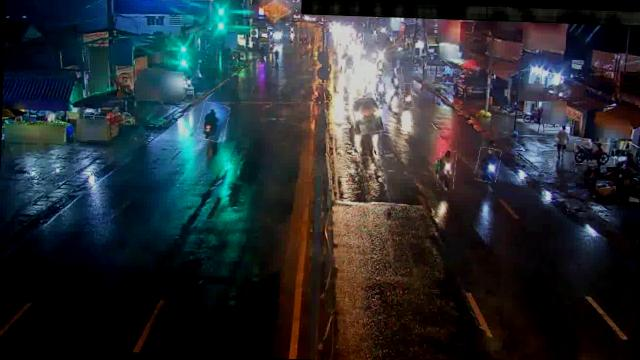Bike: (198, 102, 228, 142), (574, 142, 616, 166), (475, 148, 500, 182), (438, 150, 456, 192), (387, 68, 404, 94), (312, 82, 332, 102), (401, 84, 414, 108), (375, 76, 388, 98), (388, 90, 400, 112)
Car: (349, 94, 384, 135)
